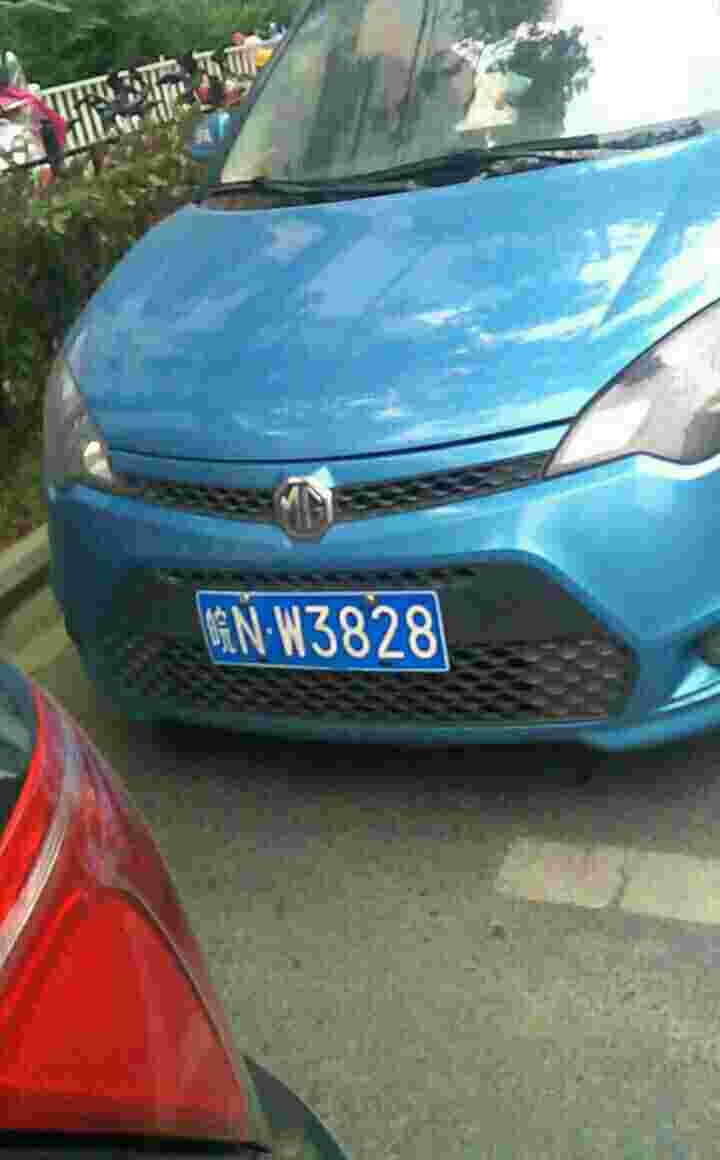plate: (187, 586, 456, 676)
